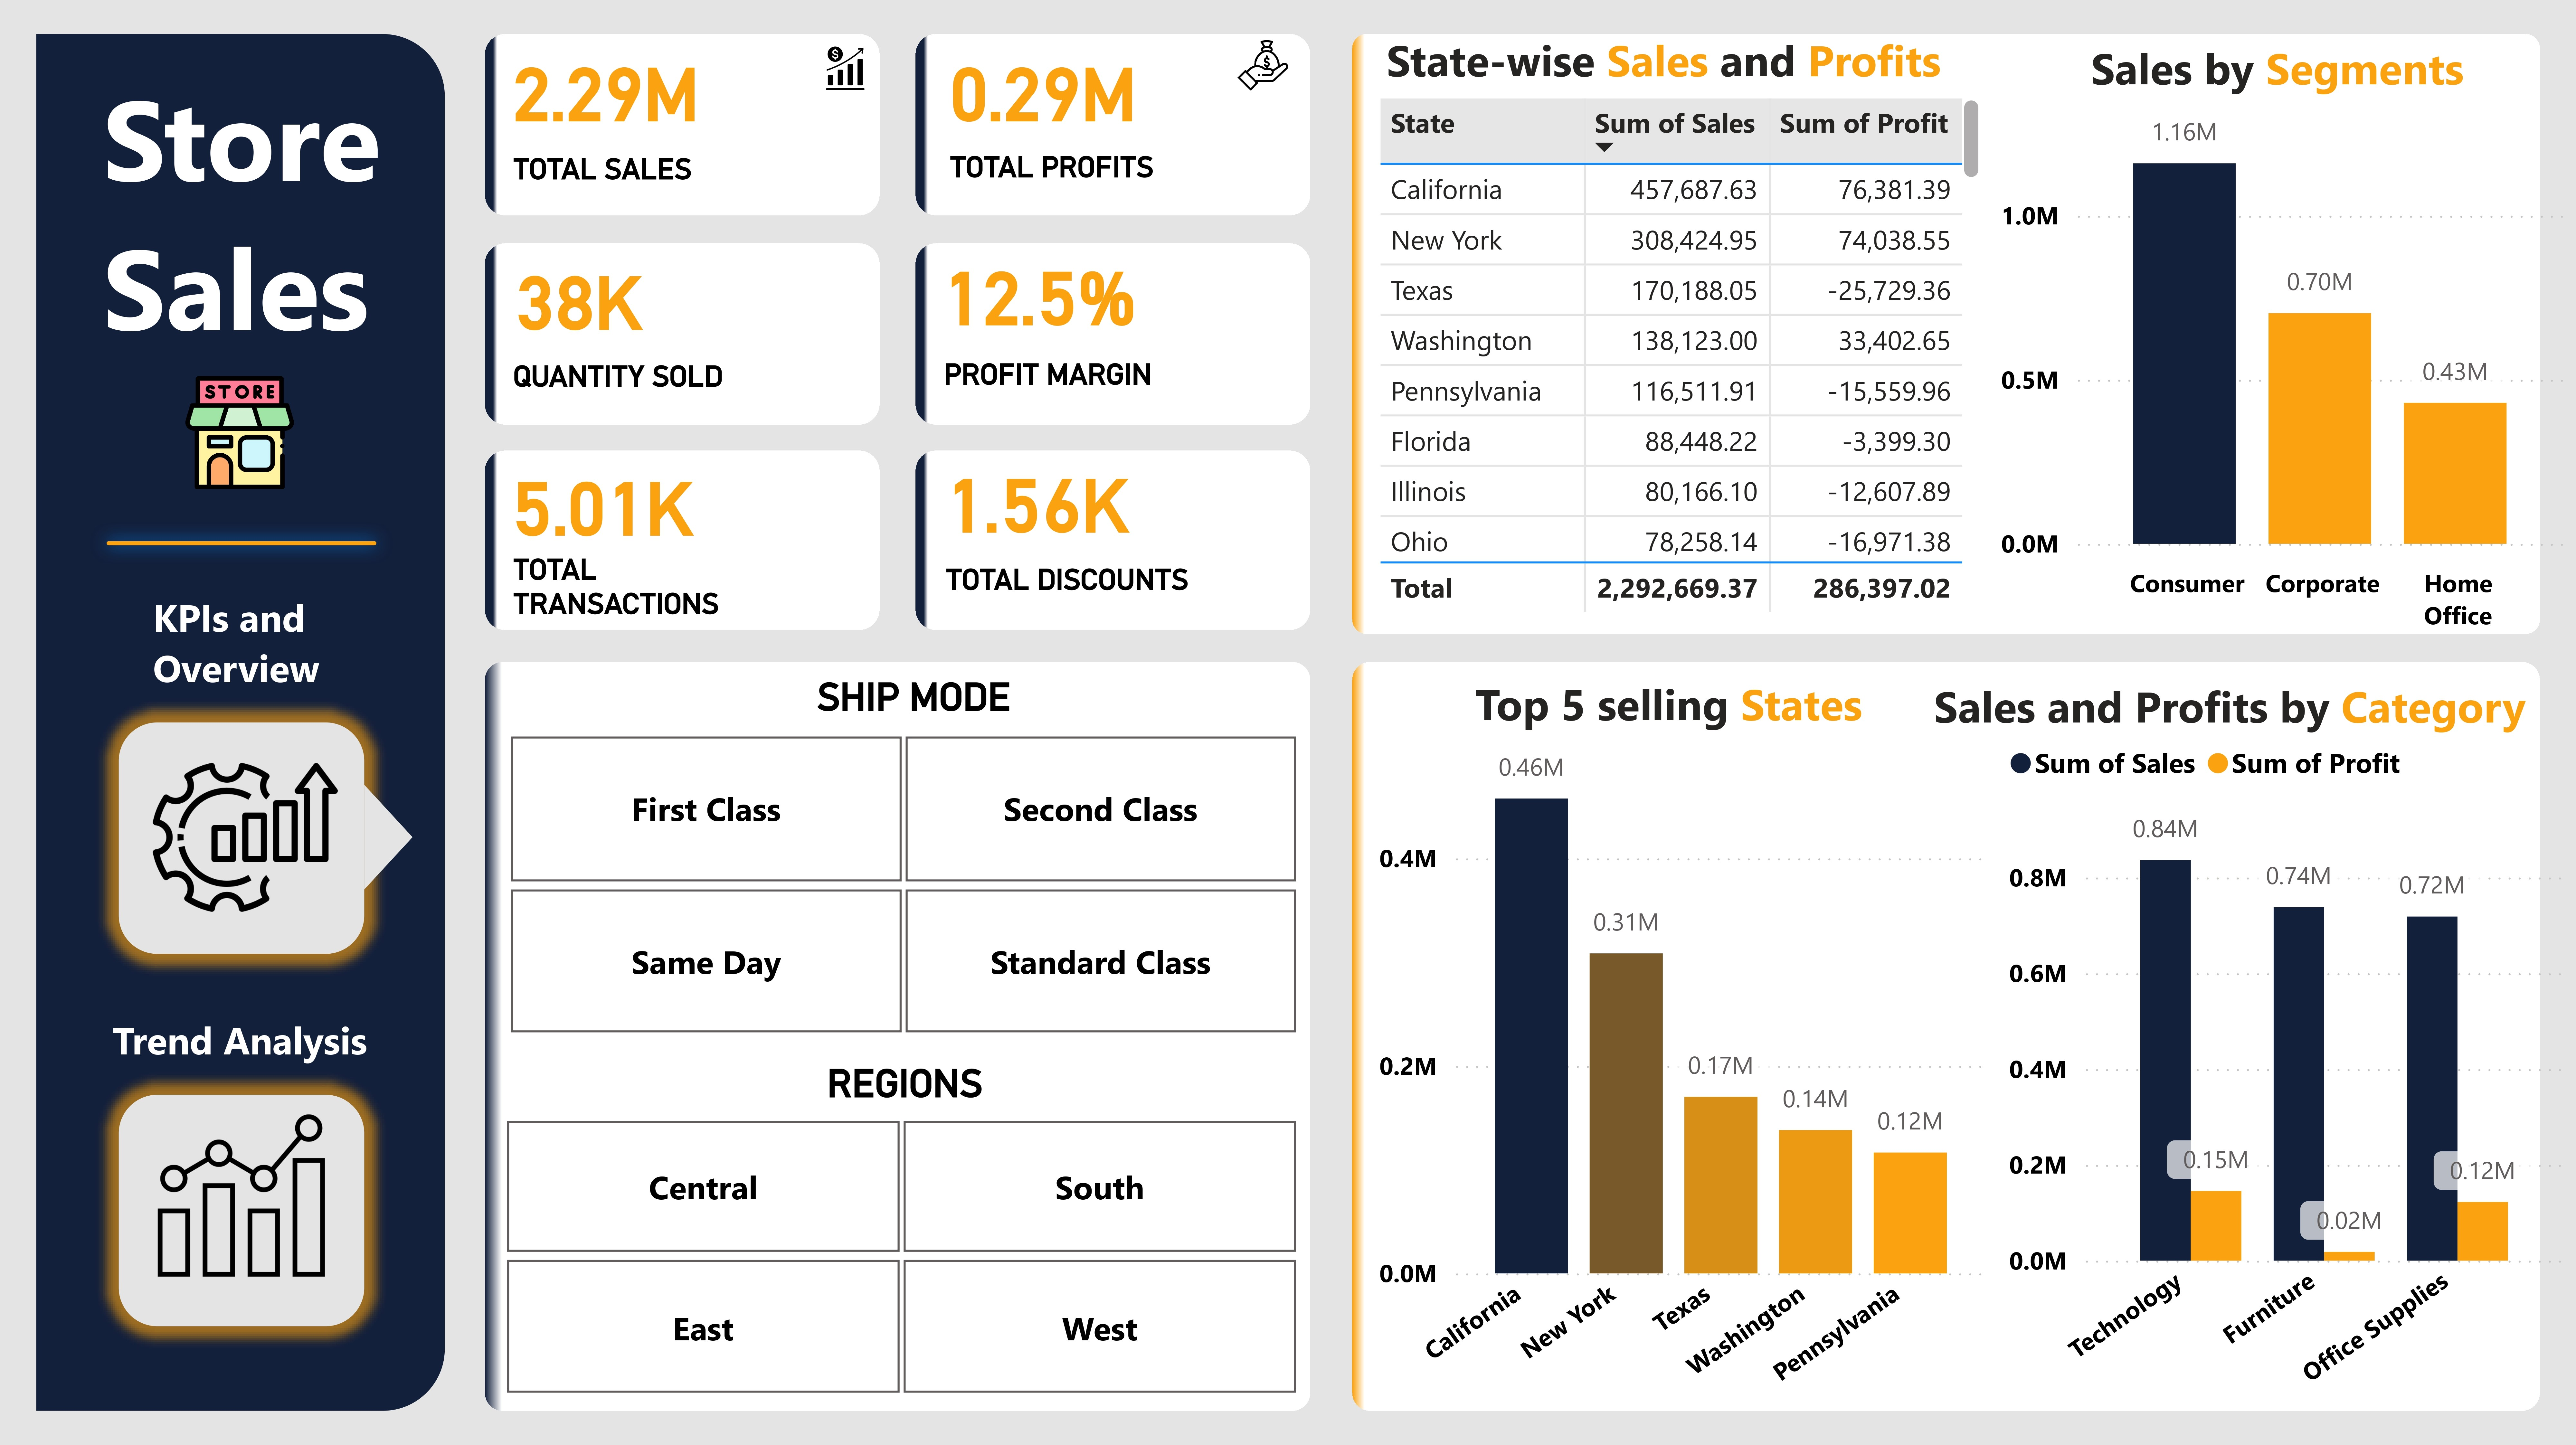

The page's visual inventory and layout, read from the dashboard file:
{"tool":"powerbi","page":{"name":"Page 1","canvas":[1280,720],"ordinal":0},"visuals":[{"type":"lineClusteredColumnComboChart","fields":{"Category":["Sales Data.Category"],"Y":["Sum(Sales Data.Sales)","Sum(Sales Data.Profit)"]},"box":[992.5,360,287.5,348.8],"z":0},{"type":"slicer","fields":{"Values":["Sales Data.Ship Mode"]},"box":[228,360.2,439.8,161.4],"z":1000},{"type":"card","title":"Total Sales","fields":{"Values":["Sum(Sales Data.Sales)"]},"box":[218.8,11.2,163.8,67.5],"z":2000},{"type":"card","fields":{"Values":["Sum(Sales Data.Profit)"]},"box":[427.3,11.1,182.5,67.5],"z":3000},{"type":"card","fields":{"Values":["Sum(Sales Data.Quantity)"]},"box":[218.8,124,137.5,48.8],"z":4000},{"type":"card","fields":{"Values":["Count(Sales Data.Order ID)"]},"box":[222,225,153.8,51.2],"z":5000},{"type":"card","fields":{"Values":["Sum(Sales Data.Discount)"]},"box":[421,226,188.8,46.2],"z":6000},{"type":"card","fields":{"Values":["Sales Data.Profit Margin %"]},"box":[447.3,123.1,138.8,46.2],"z":7000},{"type":"slicer","fields":{"Values":["Sales Data.Region"]},"box":[226,551.1,442,148.9],"z":8000},{"type":"tableEx","fields":{"Values":["Sales Data.State","Sum(Sales Data.Sales)","Sum(Sales Data.Profit)"]},"box":[680,45,308.8,265],"z":9000},{"type":"textbox","box":[46.2,26.2,160,163.8],"z":10000},{"type":"lineClusteredColumnComboChart","fields":{"Category":["Sales Data.Segment"],"Y":["Sum(Sales Data.Sales)"]},"box":[988.8,46.2,291.2,276.2],"z":11000},{"type":"lineClusteredColumnComboChart","fields":{"Y":["Sum(Sales Data.Sales)"],"Category":["Sales Data.State"]},"box":[680,360,312.5,348.8],"z":12000},{"type":"textbox","box":[250,71,113.8,32.5],"z":13000},{"type":"textbox","box":[467.3,70.3,127.5,32.5],"z":14000},{"type":"textbox","box":[250,173.8,131.2,32.5],"z":15000},{"type":"textbox","box":[463.5,172.8,131.2,32.5],"z":16000},{"type":"textbox","box":[250,270,126.2,45],"z":17000},{"type":"textbox","box":[464.8,275.3,145,32.5],"z":18000},{"type":"textbox","box":[401.2,331.2,117.5,38.8],"z":19000},{"type":"textbox","box":[406.2,522.5,112.5,38.8],"z":20000},{"type":"textbox","box":[684,11,309,40],"z":21000},{"type":"textbox","box":[1033.8,15,205,41.2],"z":22000},{"type":"textbox","box":[727.5,331.2,213.8,38.8],"z":23000},{"type":"textbox","box":[955.7,331.8,312.5,38.6],"z":24000},{"type":"image","box":[80,182.5,78.8,66.2],"z":25000},{"type":"image","box":[396.6,19.3,46.6,31.8],"z":26000},{"type":"image","box":[610.2,11.4,35.2,44.3],"z":27000},{"type":"textbox","box":[71,290,102.5,70],"z":28000},{"type":"textbox","box":[51.2,500,137.5,70],"z":29000},{"type":"shape","box":[45,246.2,150,50],"z":30000},{"type":"image","box":[66.2,363,111.2,107.5],"z":31000},{"type":"image","box":[66.2,542.5,107.5,103.8],"z":32000},{"type":"actionButton","box":[70,548.8,103.8,97.5],"z":33000}]}

Visuals, with their boxes in screenshot pixels (x1, y1, x2, y2), scaled from the page's 1280x720 canvas onto the 2576x1445 screenshot:
lineClusteredColumnComboChart - Sales Data.Category x Sum(Sales Data.Sales): locate(1997, 722, 2576, 1422)
slicer - Sales Data.Ship Mode: locate(459, 723, 1344, 1047)
"Total Sales" card: locate(440, 23, 770, 158)
card - Sum(Sales Data.Profit): locate(860, 22, 1227, 158)
card - Sum(Sales Data.Quantity): locate(440, 249, 717, 347)
card - Count(Sales Data.Order ID): locate(447, 451, 756, 554)
card - Sum(Sales Data.Discount): locate(847, 454, 1227, 546)
card - Sales Data.Profit Margin %: locate(900, 247, 1179, 340)
slicer - Sales Data.Region: locate(455, 1106, 1344, 1405)
tableEx - Sales Data.State x Sum(Sales Data.Sales): locate(1368, 90, 1990, 622)
textbox: locate(93, 52, 415, 381)
lineClusteredColumnComboChart - Sales Data.Segment x Sum(Sales Data.Sales): locate(1990, 93, 2576, 647)
lineClusteredColumnComboChart - Sum(Sales Data.Sales) x Sales Data.State: locate(1368, 722, 1997, 1422)
textbox: locate(503, 143, 732, 208)
textbox: locate(941, 141, 1197, 206)
textbox: locate(503, 349, 767, 414)
textbox: locate(933, 347, 1197, 412)
textbox: locate(503, 542, 757, 632)
textbox: locate(935, 552, 1227, 618)
textbox: locate(808, 665, 1044, 742)
textbox: locate(818, 1049, 1044, 1127)
textbox: locate(1377, 22, 1998, 102)
textbox: locate(2080, 30, 2493, 113)
textbox: locate(1464, 665, 1894, 742)
textbox: locate(1923, 666, 2552, 743)
image: locate(161, 366, 320, 499)
image: locate(798, 39, 892, 103)
image: locate(1228, 23, 1299, 112)
textbox: locate(143, 582, 349, 722)
textbox: locate(103, 1004, 380, 1144)
shape: locate(90, 494, 393, 594)
image: locate(133, 729, 357, 944)
image: locate(133, 1089, 350, 1297)
actionButton: locate(141, 1101, 350, 1297)
